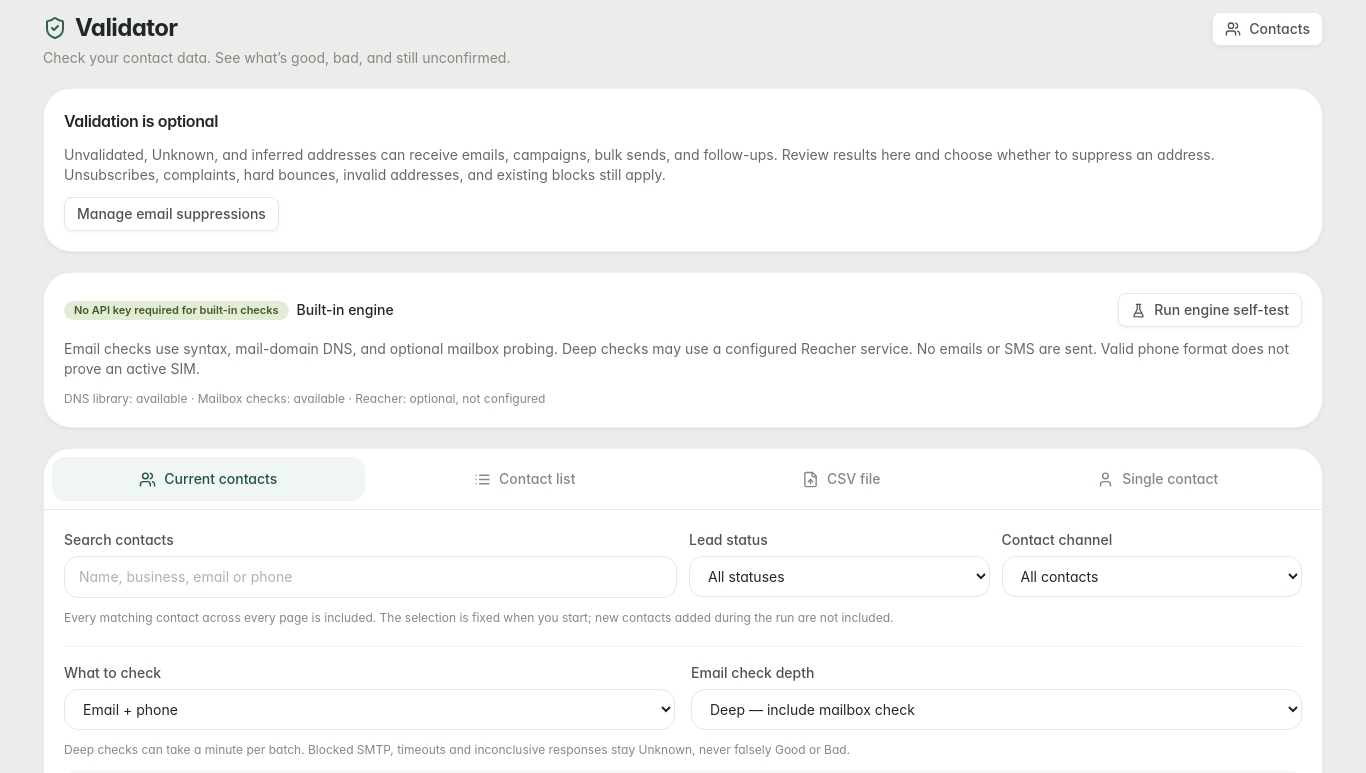
Test: Validator workspace › explains keys and runs the real engine self-test endpoint
Expected: the text "No API key required for built-in checks" is shown, [64, 300, 289, 320]
Expected: the text "Built-in engine" is shown, [297, 300, 394, 320]
Step 1. Click the button "Run engine self-test" → (1210, 310), box [1118, 293, 1302, 327]
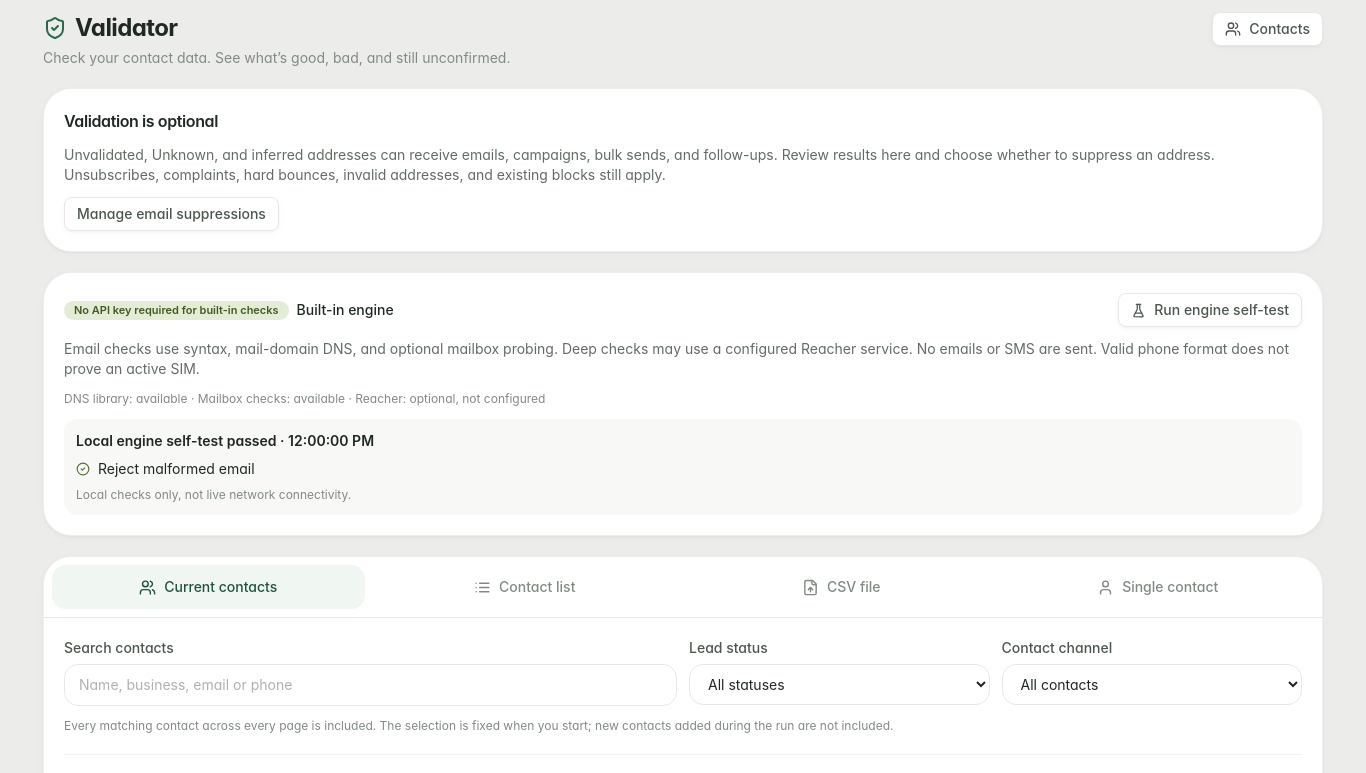
Expected: the text "Local engine self-test passed · 12:00:00 PM" is shown, [76, 432, 374, 449]
Expected: the text "Local checks only, not live network connectivity." is shown, [76, 487, 351, 502]
